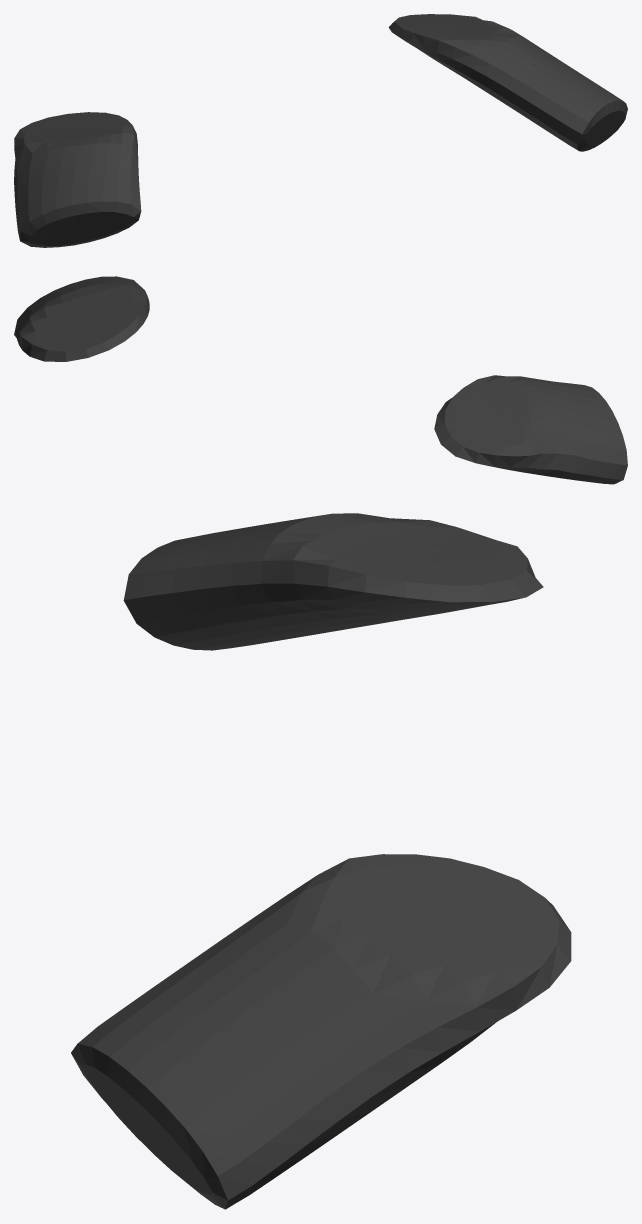
The picture shows the model from 3 angles, top to bottom: view 1: azimuth 30°, elevation 25°; view 2: azimuth 150°, elevation 25°; view 3: azimuth 270°, elevation 25°; orthographic projection. The views are drawn at different scales.
Visible parts, largest first — view 1: CN3_low_CN3_low; view 2: CN3_low_CN3_low; view 3: CN3_low_CN3_low.
Boxes of the visible parts, x1,y1,x2,y2 form: CN3_low_CN3_low: (14, 14, 627, 247); CN3_low_CN3_low: (14, 276, 627, 484); CN3_low_CN3_low: (71, 513, 571, 1209).
Size of the model in its own units: 9.8 by 1.68 by 3.57.
Materials: 1 (1 with a texture image).
